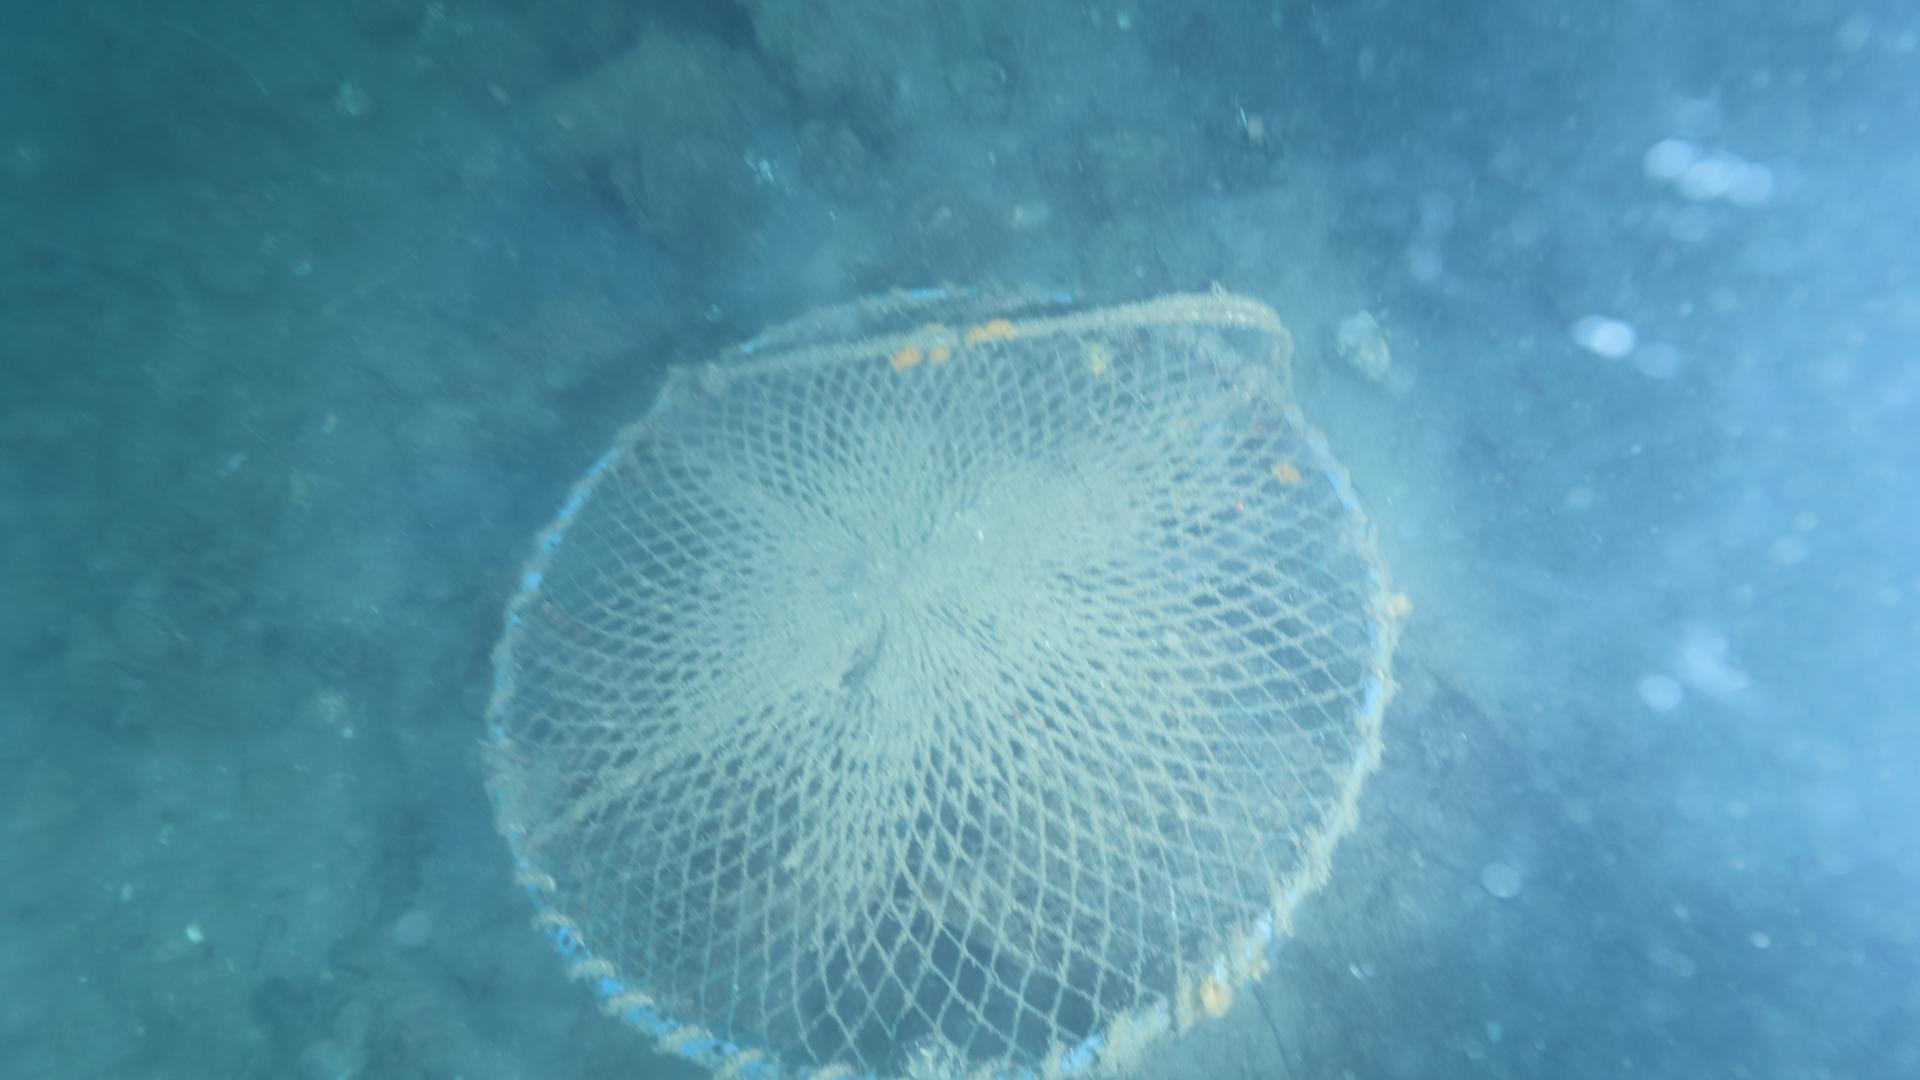circular fish trap: (477, 272, 1404, 1080)
